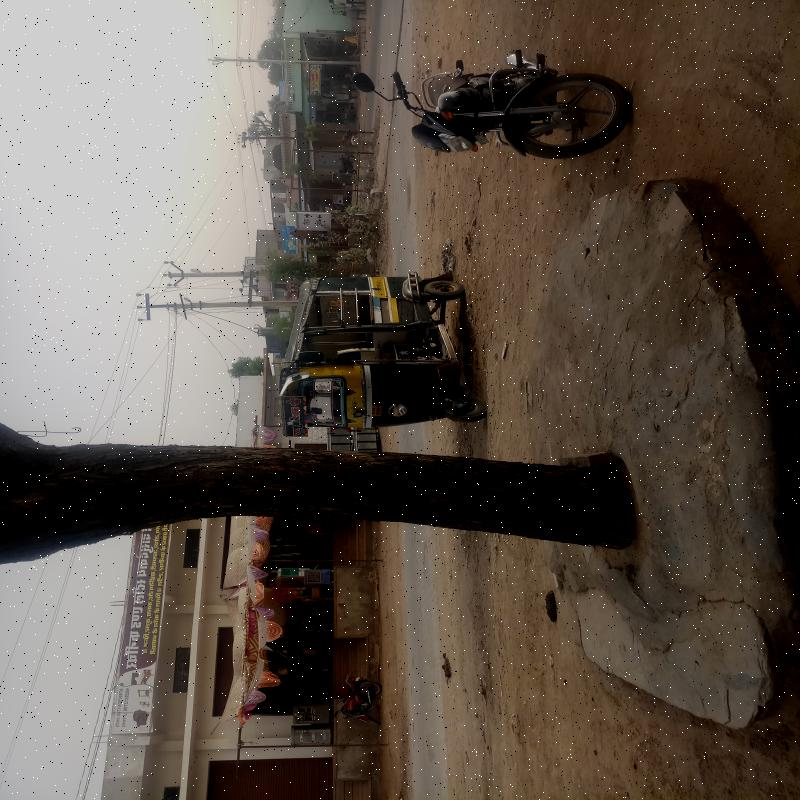auto: (305, 268, 464, 415)
